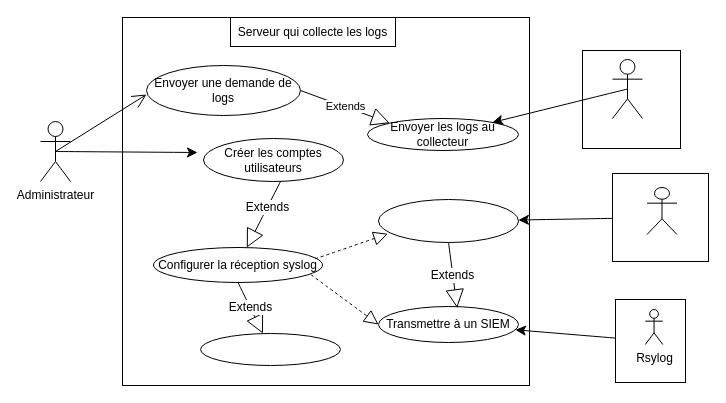
This 726x403 diagram has some shape labels left out. The centre of each missing label's shape, as x and y in pixels:
"Analyser les logs reçus" belongs at pixel 270 349.
"Purger les anciens logs" belongs at pixel 448 220.
"Script" belongs at pixel 661 210.
"Serveur Web" belongs at pixel 627 88.
